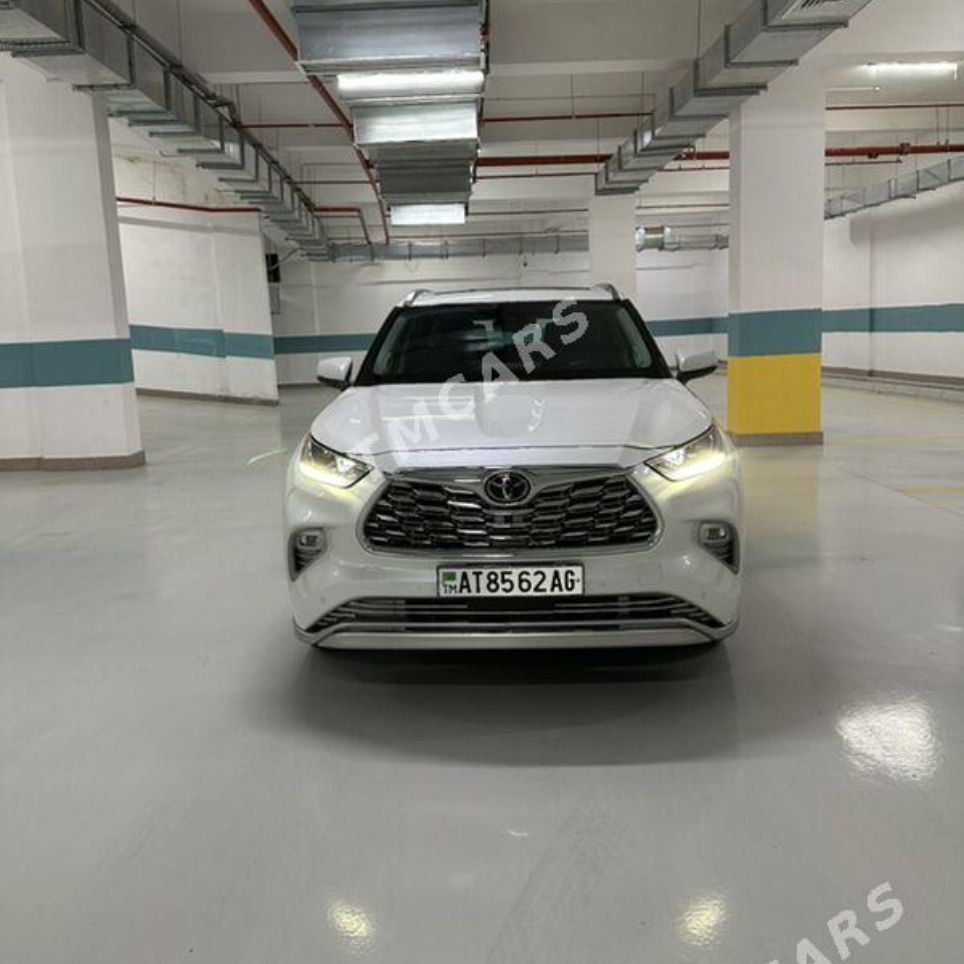license plate: (434, 563, 584, 601)
truck: (271, 276, 757, 673)
